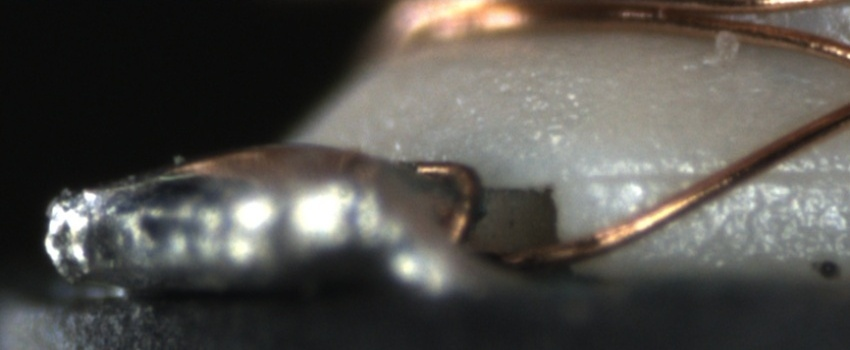DL: (592, 148, 849, 204)
TE: (409, 148, 483, 254)
